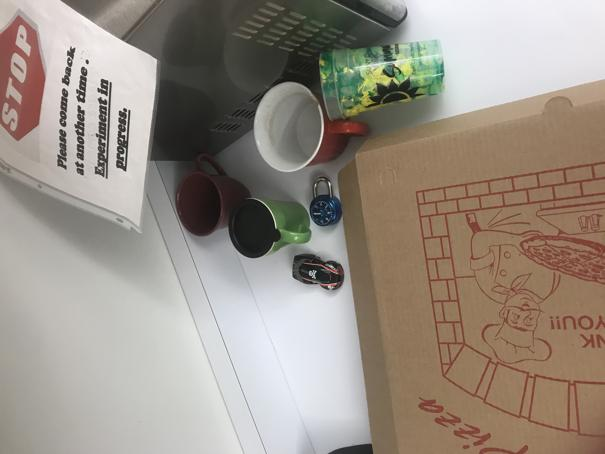Skull: (292, 254, 344, 291)
